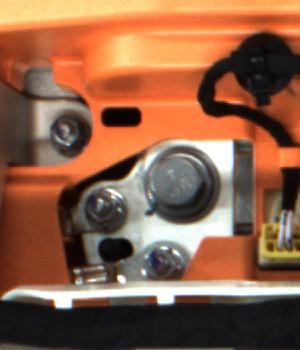nut_b: (140, 145, 228, 226)
screw_s: (79, 185, 119, 225), (141, 242, 176, 279), (47, 114, 78, 151)
